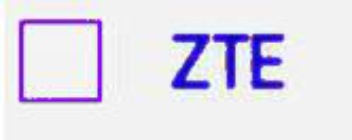CheckBox: (1, 1, 351, 139)
